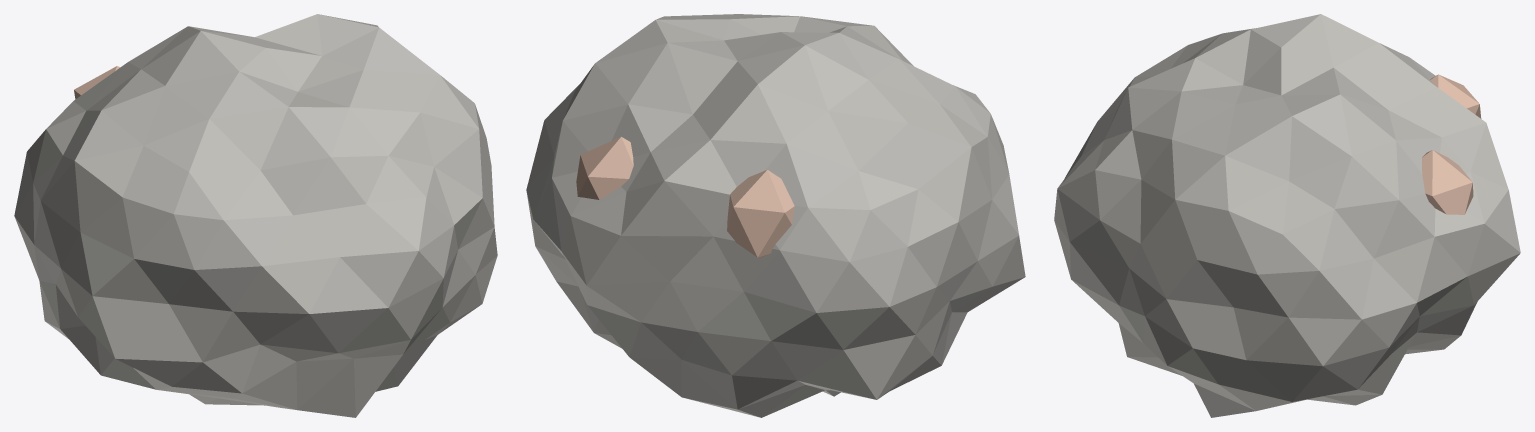
Rendered from ore_node.glb.
The picture shows the model from 3 angles, left to right: view 1: azimuth 30°, elevation 25°; view 2: azimuth 150°, elevation 25°; view 3: azimuth 270°, elevation 25°; orthographic projection. The views are drawn at different scales.
Parts seen in each view (by area): view 1: ore_node; view 2: ore_node; view 3: ore_node.
Part boxes in pixels (x1,y1,x2,y2): ore_node: (14,14,497,417); ore_node: (526,14,1025,417); ore_node: (1054,14,1520,417).
Bounding box in the file's own units: 2 × 1.6 × 1.96.
